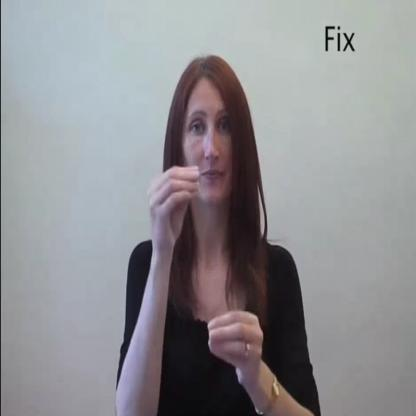Fix: (151, 152, 268, 402)
